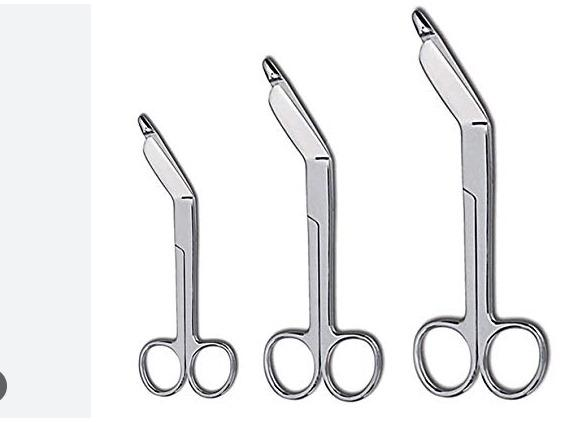Bandage Sciccors: (402, 3, 554, 401), (251, 53, 385, 409), (124, 105, 251, 406)
